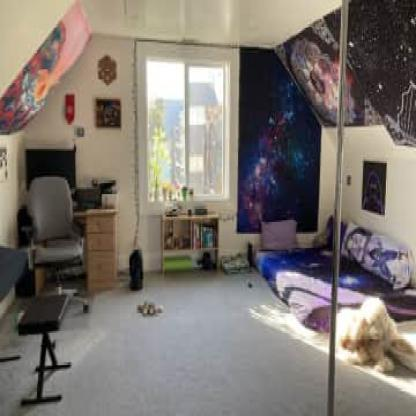bed: (238, 223, 416, 337)
chair: (20, 163, 96, 314), (13, 289, 73, 415)
table: (162, 212, 222, 272), (0, 245, 27, 366)
